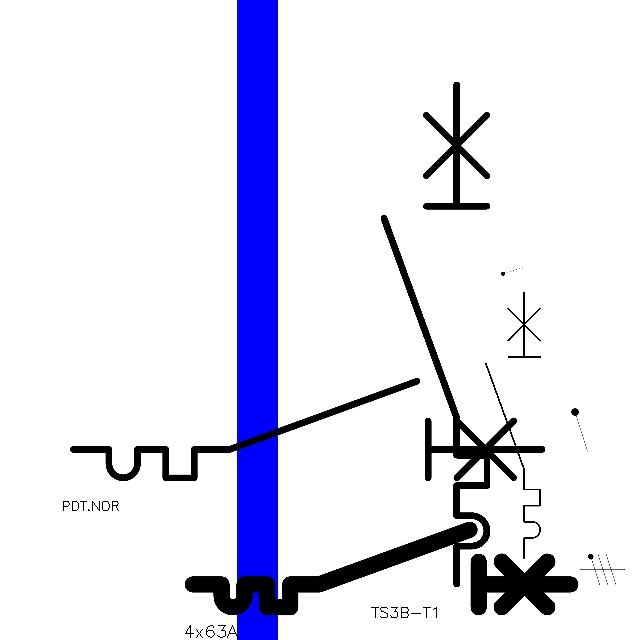interruptor_termomagnetico: (371, 72, 500, 597), (61, 369, 554, 490), (183, 520, 580, 617), (479, 285, 547, 564)
